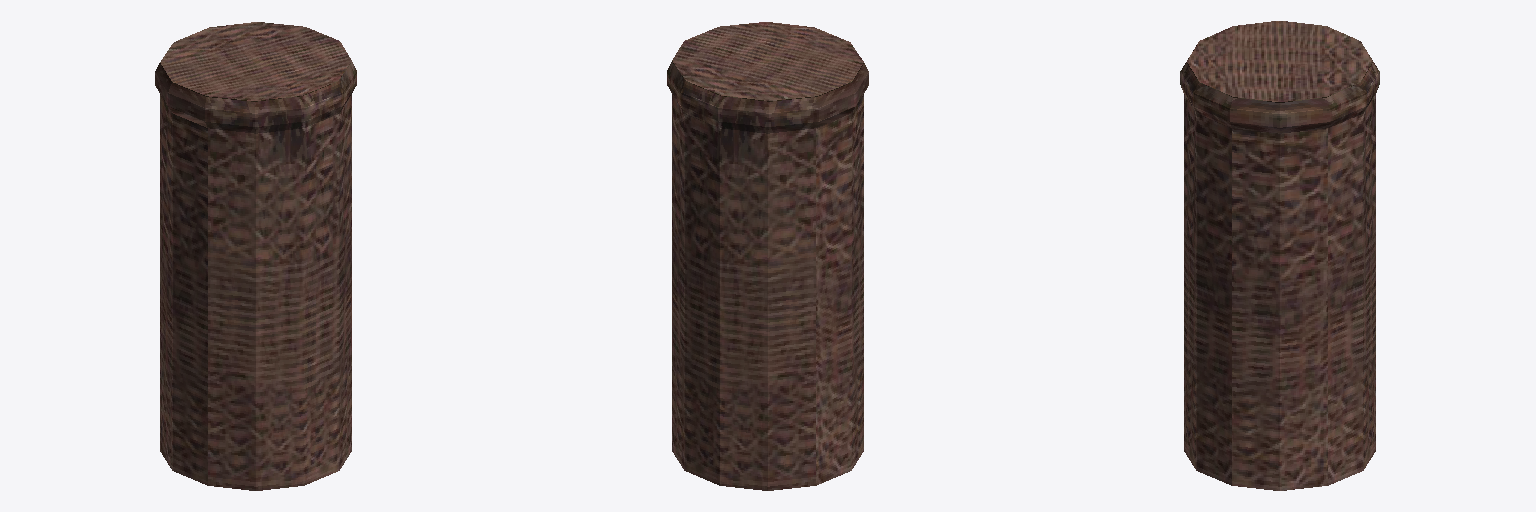
3 renders of one model, left to right at view 1: azimuth 30°, elevation 25°; view 2: azimuth 150°, elevation 25°; view 3: azimuth 270°, elevation 25°, orthographic.
Parts seen in each view (by area): view 1: Regroup02; view 2: Regroup02; view 3: Regroup02.
Part boxes in pixels (bbox=[...]): Regroup02: bbox=[155, 22, 356, 490]; Regroup02: bbox=[667, 22, 868, 490]; Regroup02: bbox=[1180, 21, 1379, 490].
Bounding box in the file's own units: 22.91 × 48.41 × 22.48.
1 materials, 1 textured.